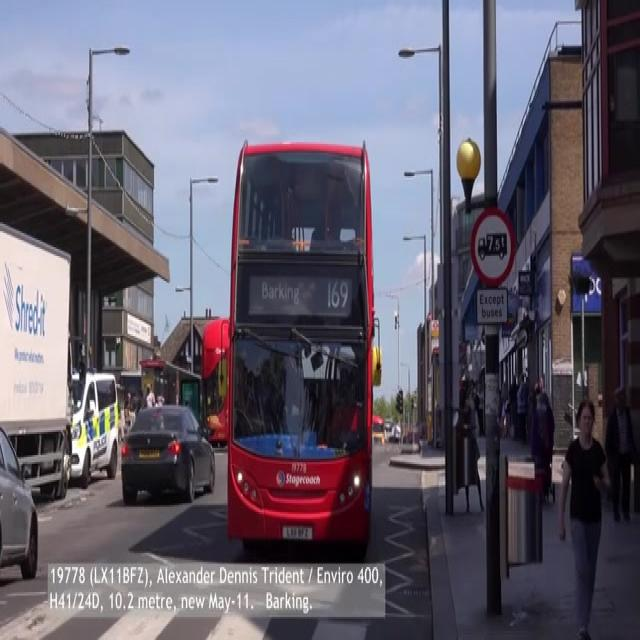bus: (229, 144, 378, 550)
